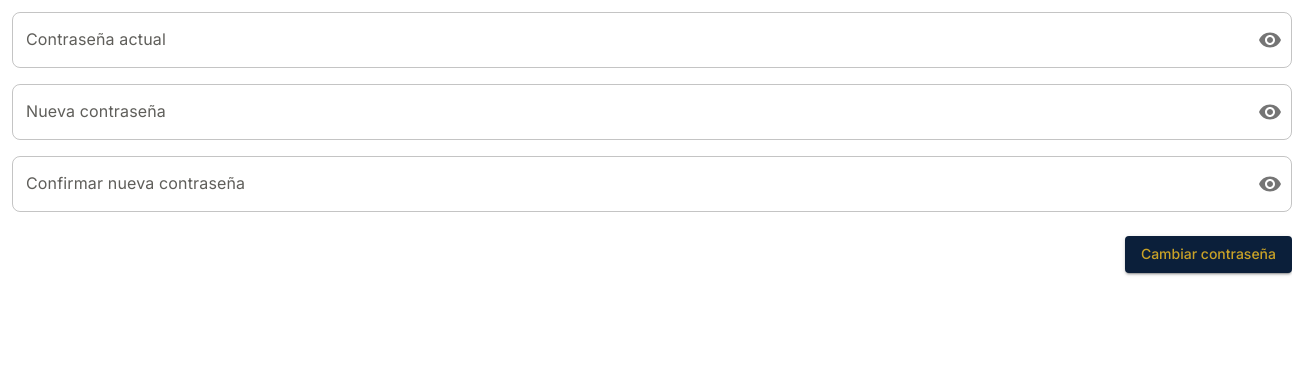
it: ChangePasswordForm › error handling - API errors › should show generic error message when API returns unknown error
This screenshot has width=1304, height=366.
Type "OldPass123" into the password field labelled "Contraseña actual".
click(627, 40); type("OldPass123")  # box [12,12,1242,68]
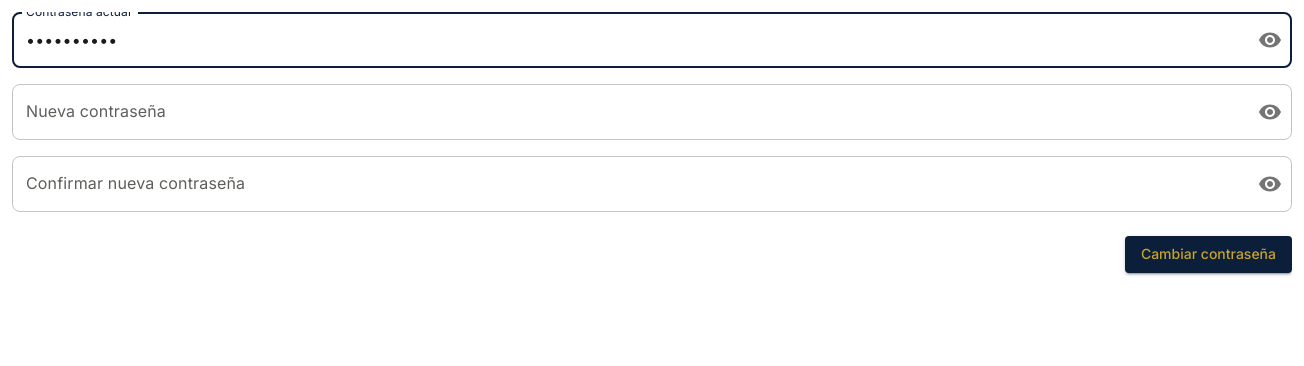
Type "NewPass456" into the password field labelled "Nueva contraseña".
click(627, 112); type("NewPass456")  # box [12,84,1242,140]
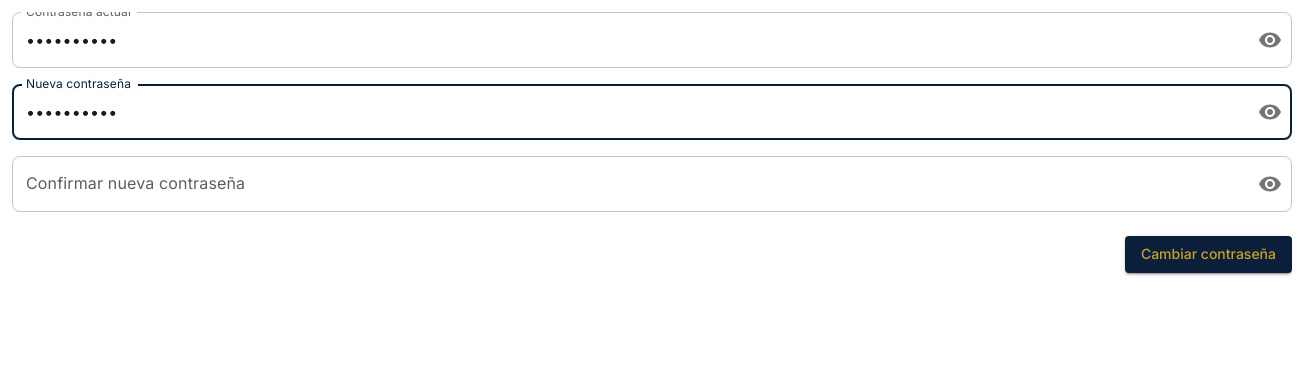
Type "NewPass456" into the password field labelled "Confirmar nueva contraseña".
click(627, 184); type("NewPass456")  # box [12,156,1242,212]
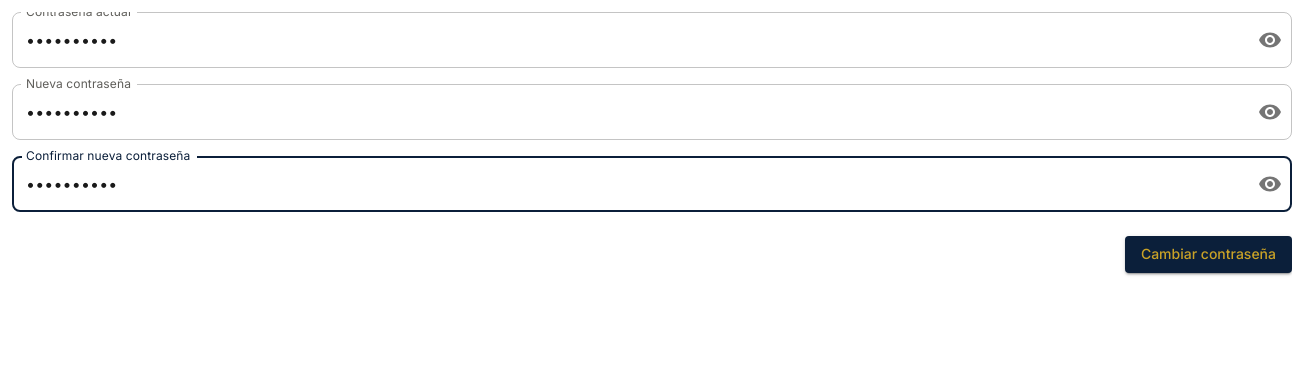
Click the button "Cambiar contraseña".
click(1208, 254)  # box [1125,236,1292,272]
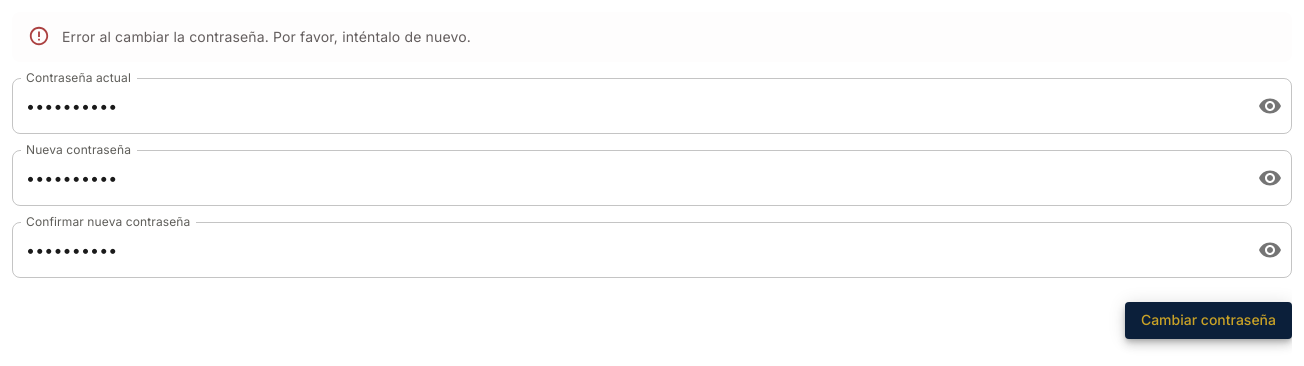
Now the text "Error al cambiar la contraseña" is shown, box [62,28,471,45]
